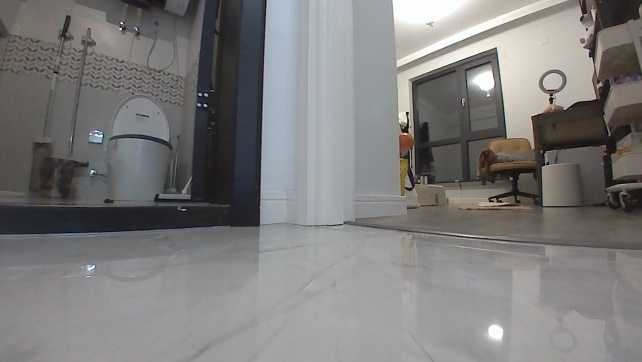door_sill: (341, 215, 641, 264), (0, 201, 232, 235)
toilet: (102, 89, 185, 203)
